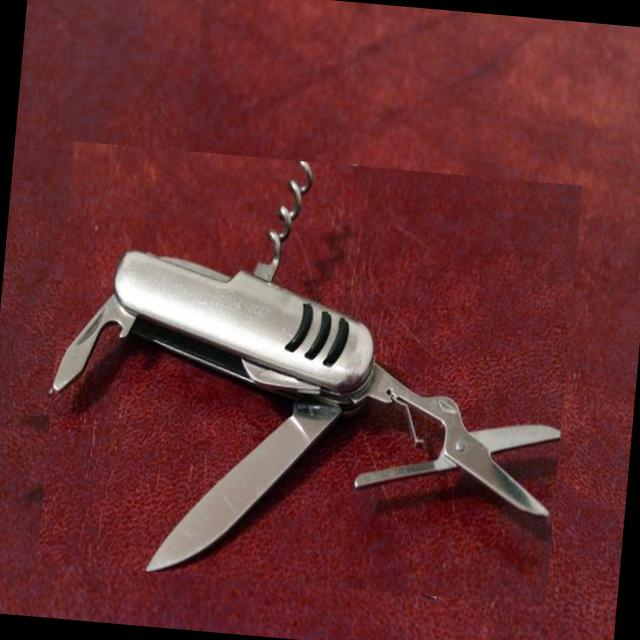Knife: (53, 161, 560, 571)
